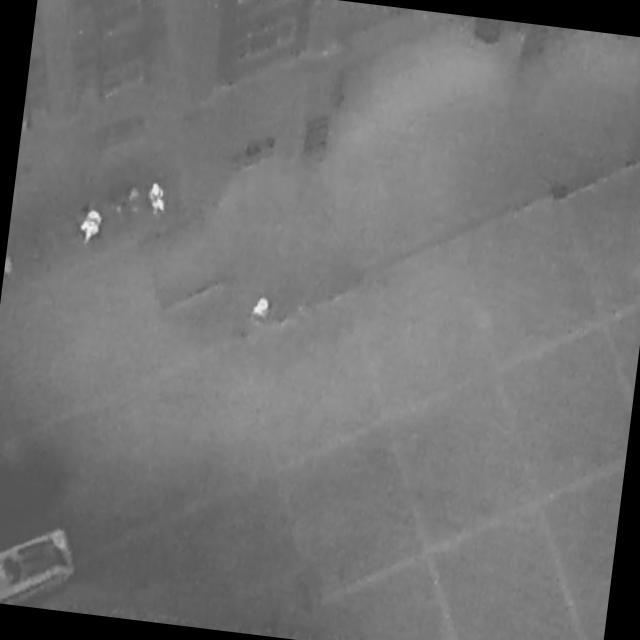person: (144, 179, 173, 219), (79, 210, 103, 243), (250, 294, 272, 321)
